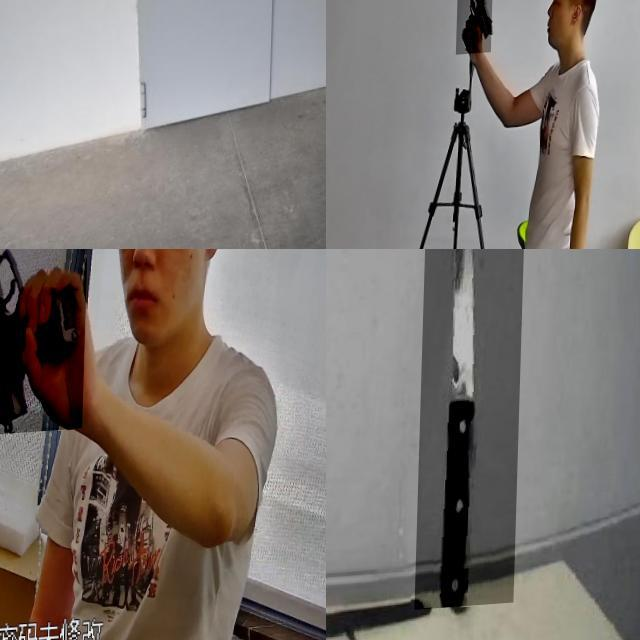-: (418, 249, 527, 616)
gun-knife-thesis - v11 Yolov5 augmented: (0, 249, 90, 441), (457, 0, 494, 59)
